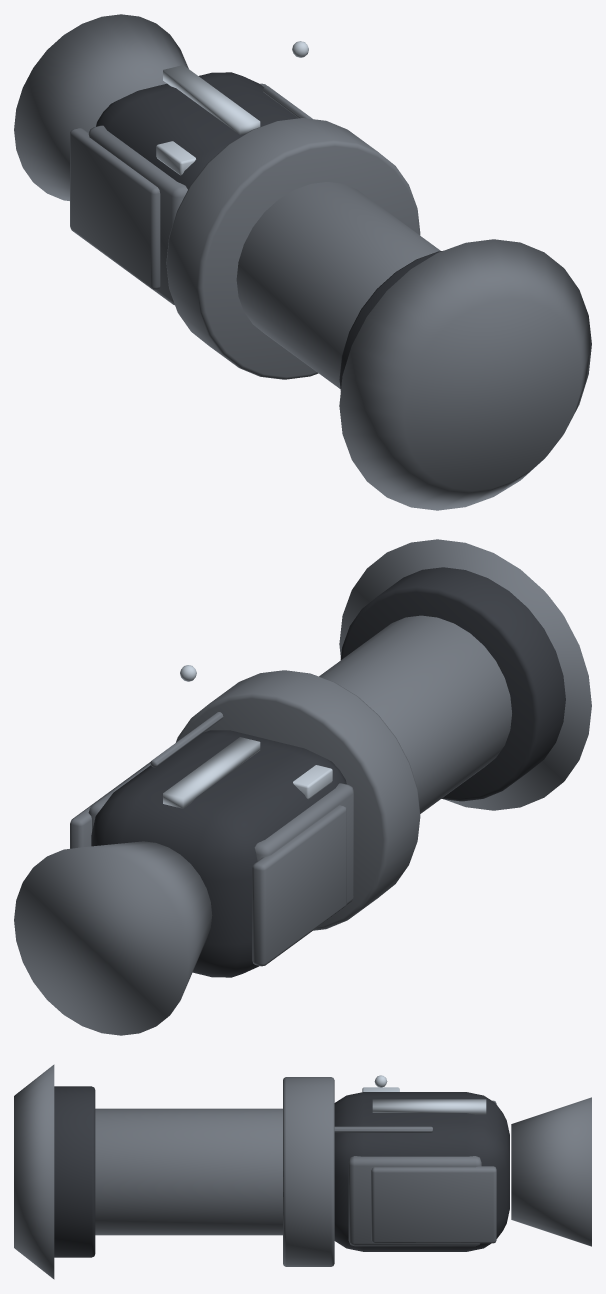
The model's file is weapon_drone_spread.glb.
3 renders of one model, top to bottom at view 1: azimuth 30°, elevation 25°; view 2: azimuth 150°, elevation 25°; view 3: azimuth 270°, elevation 25°, orthographic. The views are drawn at different scales.
Parts seen in each view (by area): view 1: weapon_drone_spread; view 2: weapon_drone_spread; view 3: weapon_drone_spread.
Part boxes in pixels (left/top/right/bottom): weapon_drone_spread: left=14, top=14, right=591, bottom=510; weapon_drone_spread: left=14, top=539, right=591, bottom=1035; weapon_drone_spread: left=14, top=1064, right=591, bottom=1279.
Size of the model in its own units: 0.7494 by 0.8215 by 2.01.
